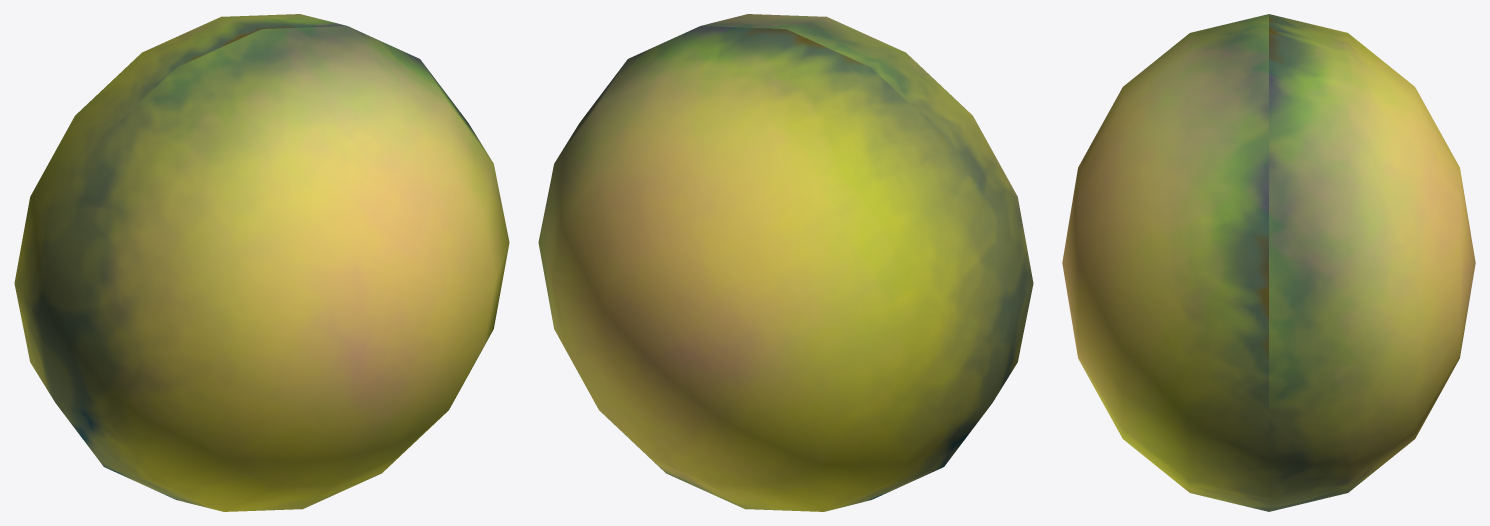
File: CosmicGoo_Bulb_Large.fbx
3 views of the same model, side by side, from view 1: azimuth 30°, elevation 25°; view 2: azimuth 150°, elevation 25°; view 3: azimuth 270°, elevation 25° (orthographic). The views are drawn at different scales.
Parts seen in each view (by area): view 1: GooSac_Large; view 2: GooSac_Large; view 3: GooSac_Large.
Part boxes in pixels (box(x1,y1,x2,y2)): GooSac_Large: box(14, 14, 509, 511); GooSac_Large: box(538, 14, 1033, 511); GooSac_Large: box(1062, 14, 1475, 511).
Size of the model in its own units: 5.75 by 5.75 by 4.77.
